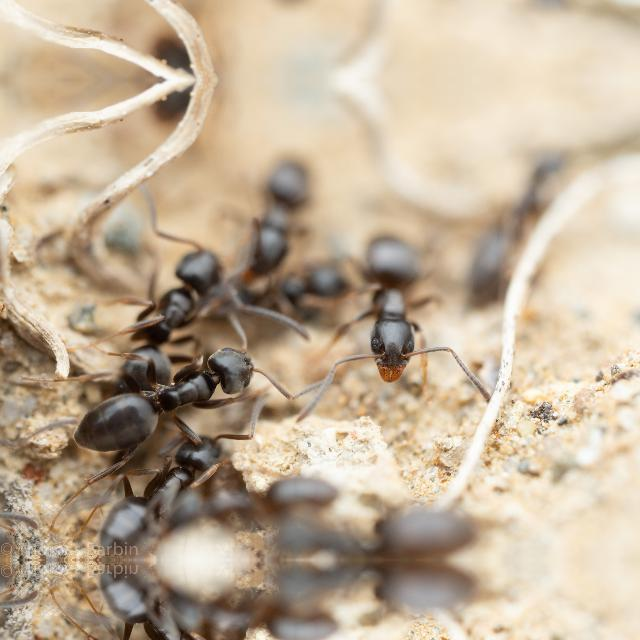Tapinoma: (437, 129, 577, 339), (58, 332, 282, 460), (83, 227, 235, 379), (79, 428, 248, 560), (336, 218, 462, 390), (251, 484, 477, 560), (251, 560, 477, 636), (156, 455, 342, 545), (207, 221, 366, 325), (78, 560, 246, 640), (228, 152, 330, 282), (156, 574, 340, 640)
